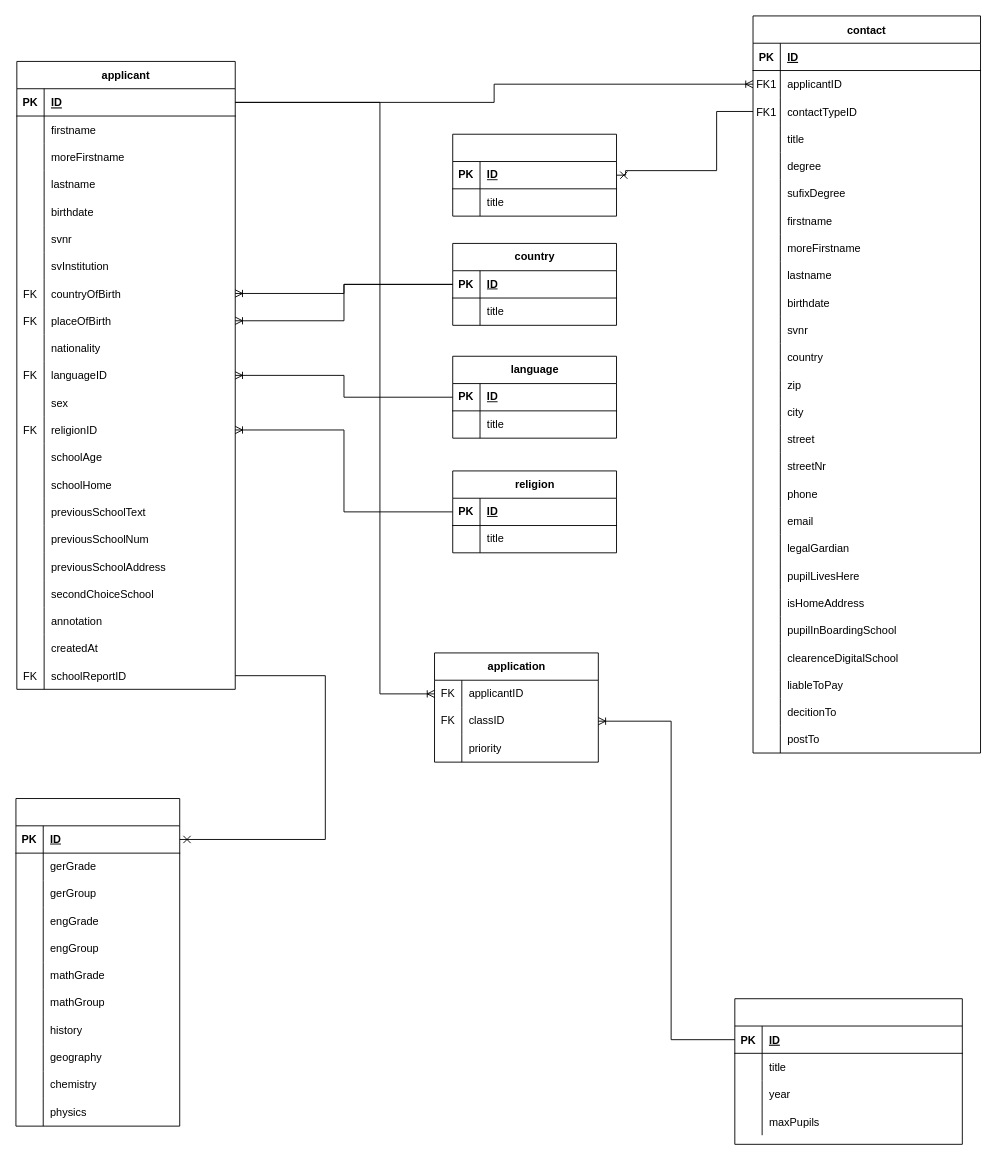
The diagram is 996 pixels wide and 1160 high, and some of its shapes have lost their labels. Each missing label, with the box of its shape:
contactType: (452, 133, 617, 216)
schoolClass: (734, 998, 962, 1144)
schoolReport: (15, 798, 180, 1126)
